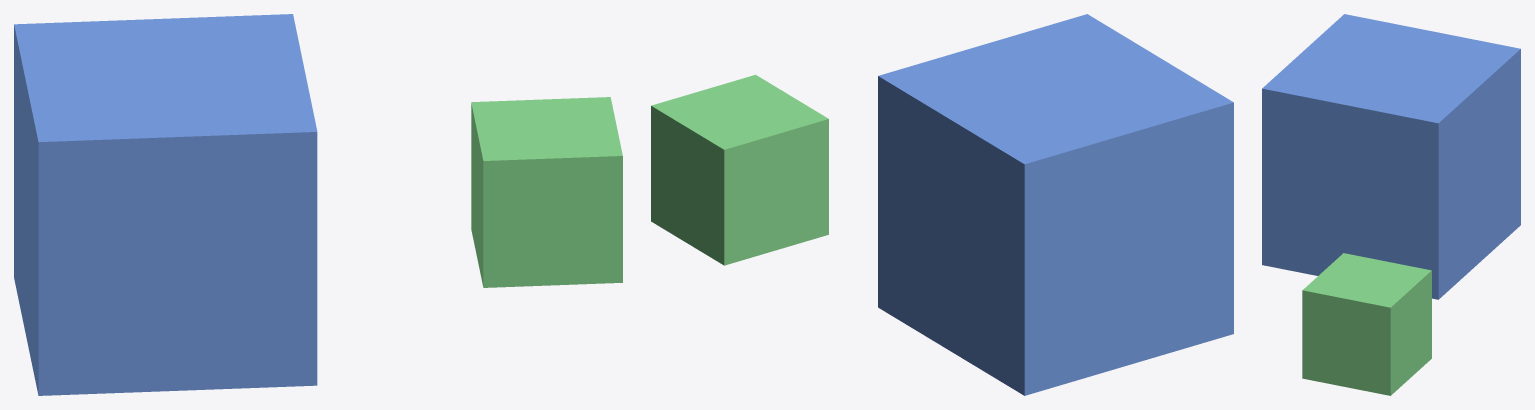
The model's file is testScene_multiple_lights.dae.
The picture shows the model from 3 angles, left to right: view 1: azimuth 30°, elevation 25°; view 2: azimuth 150°, elevation 25°; view 3: azimuth 270°, elevation 25°; orthographic projection. The views are drawn at different scales.
Visible parts, largest first — view 1: Cube_005, Cube_006; view 2: Cube_005, Cube_006; view 3: Cube_005, Cube_006.
Boxes of the visible parts, x1,y1,x2,y2 form: Cube_005: (14, 14, 317, 395); Cube_006: (471, 97, 622, 287); Cube_005: (878, 14, 1233, 395); Cube_006: (651, 74, 828, 265); Cube_005: (1262, 14, 1520, 299); Cube_006: (1302, 253, 1431, 395).
Size of what is drawn, in the model's own units: 2.5 by 1.33 by 1.
